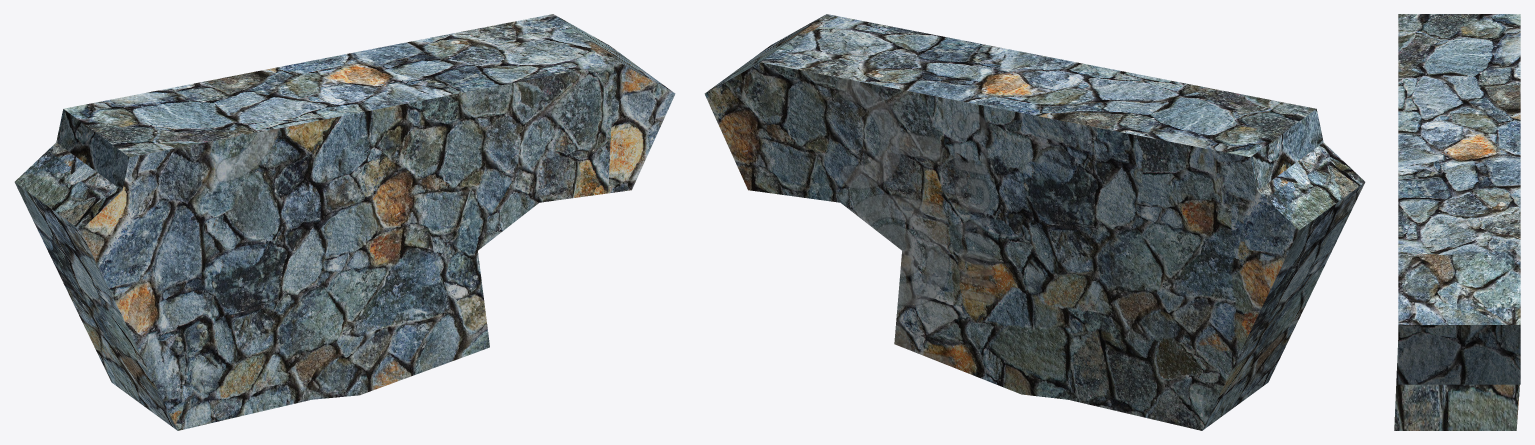
File: wall_hard_left.fbx
The picture shows the model from 3 angles, left to right: view 1: azimuth 30°, elevation 25°; view 2: azimuth 150°, elevation 25°; view 3: azimuth 270°, elevation 25°; orthographic projection. The views are drawn at different scales.
Visible parts, largest first — view 1: Circle; view 2: Circle; view 3: Circle.
Part boxes in pixels (left/top/right/bottom): Circle: left=14, top=14, right=675, bottom=430; Circle: left=704, top=14, right=1365, bottom=430; Circle: left=1394, top=14, right=1520, bottom=430.
Bounding box in the file's own units: 7.78 × 3.67 × 1.55.
